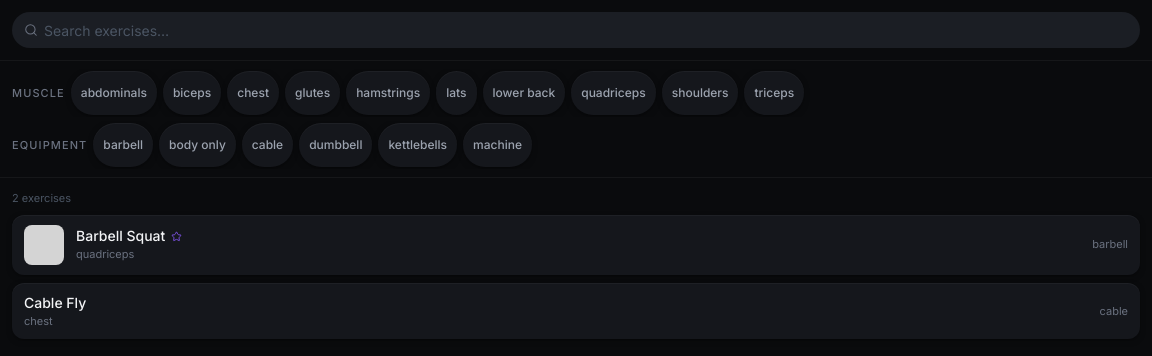
Scenario: ExerciseLibrary › filters rows by search query
Expected: the button with test id "exercise-row-barbell-squat" is shown, x1=12 y1=214 x2=1140 y2=274
Type "squat" into the search field labelled "Search exercises".
click(576, 30); type("squat")  # box x1=12 y1=12 x2=1140 y2=48
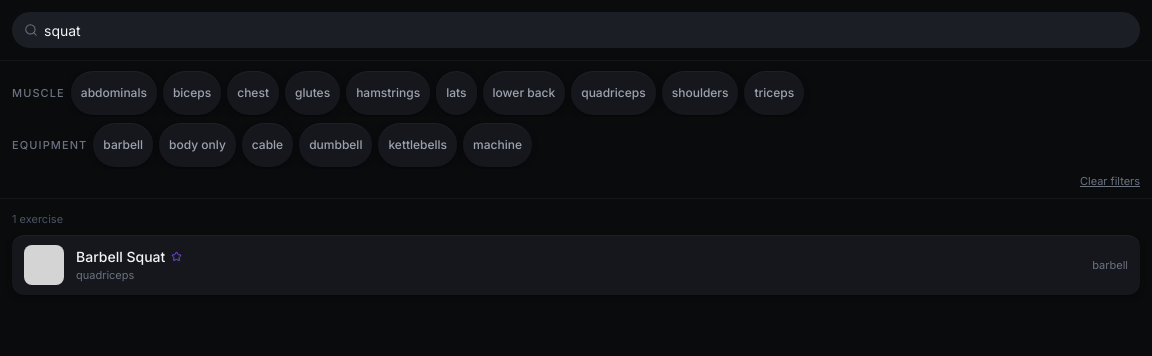
Expected: the button with test id "exercise-row-barbell-squat" is shown, x1=12 y1=235 x2=1140 y2=295
Expected: the button with test id "exercise-row-cable-fly" is gone
